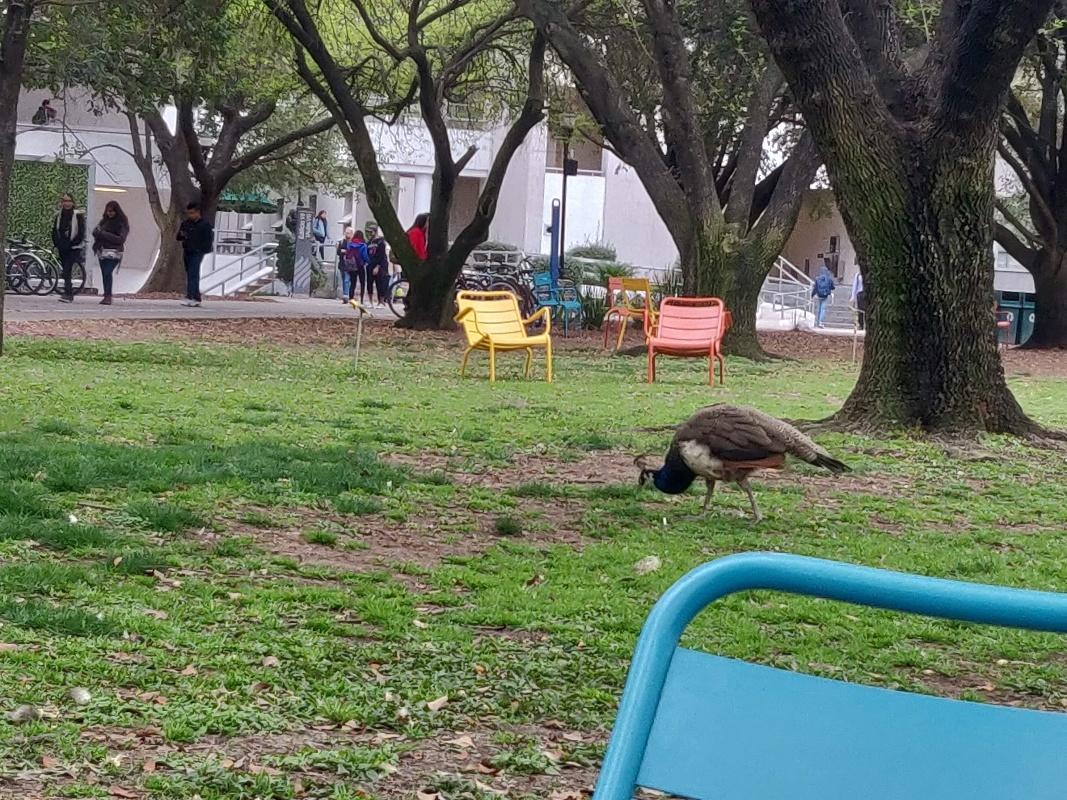pavoreal: (639, 410, 794, 511)
